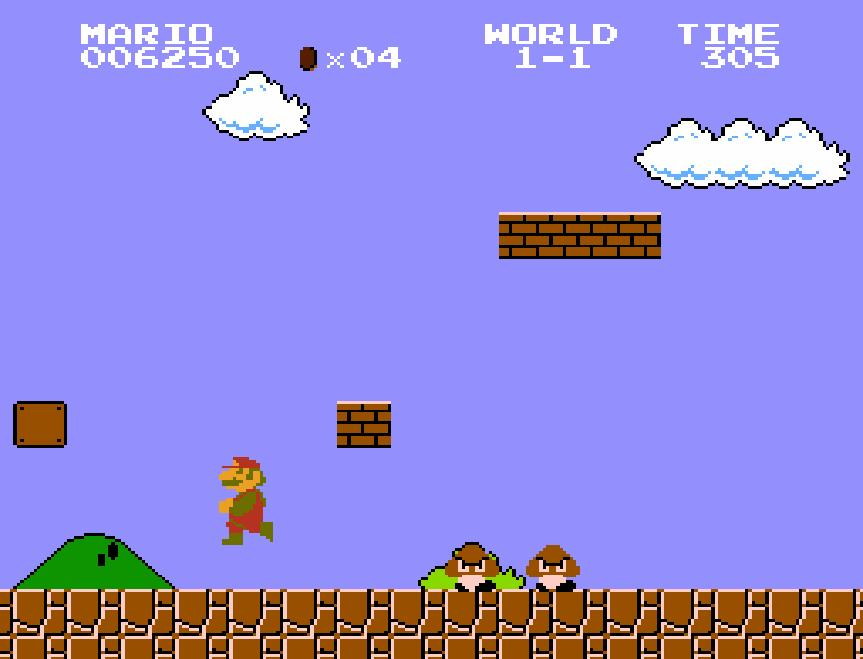big_mario: (217, 449, 274, 547)
